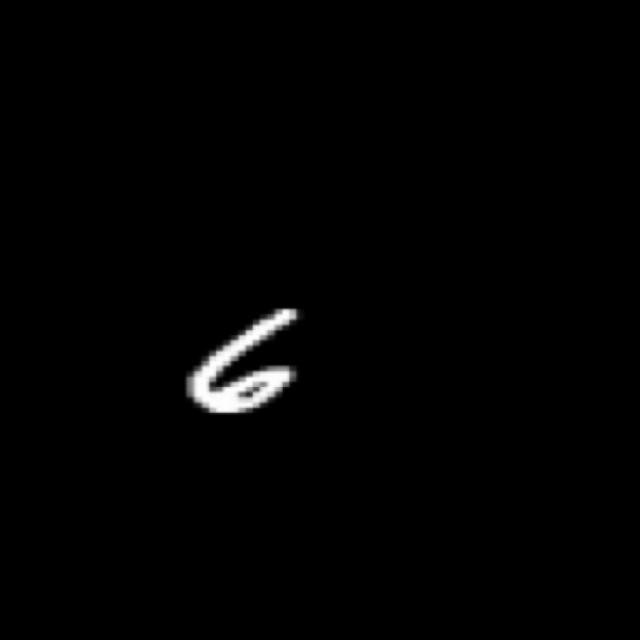six -6-: (172, 301, 319, 418)
